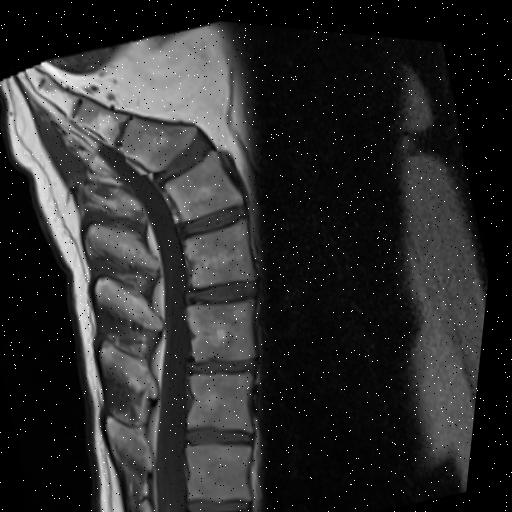L1: (192, 437, 258, 494)
L2: (195, 367, 259, 425)
L3: (192, 293, 259, 354)
L4: (188, 214, 259, 279)
L5: (167, 146, 245, 216)
S1: (122, 114, 198, 168)
